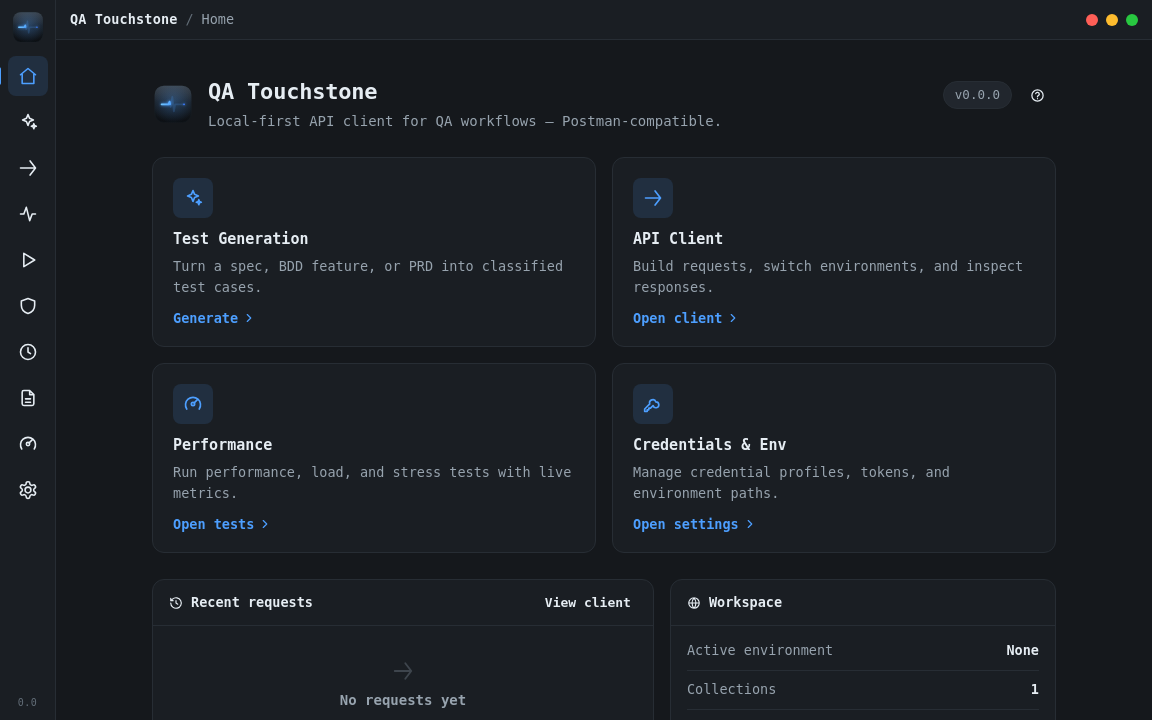
App (redesign shell) › runs due monitors on the background cadence before the Monitors route is opened
Click the button named "Monitors".
click(28, 352)  # box left=8, top=332, right=48, bottom=372
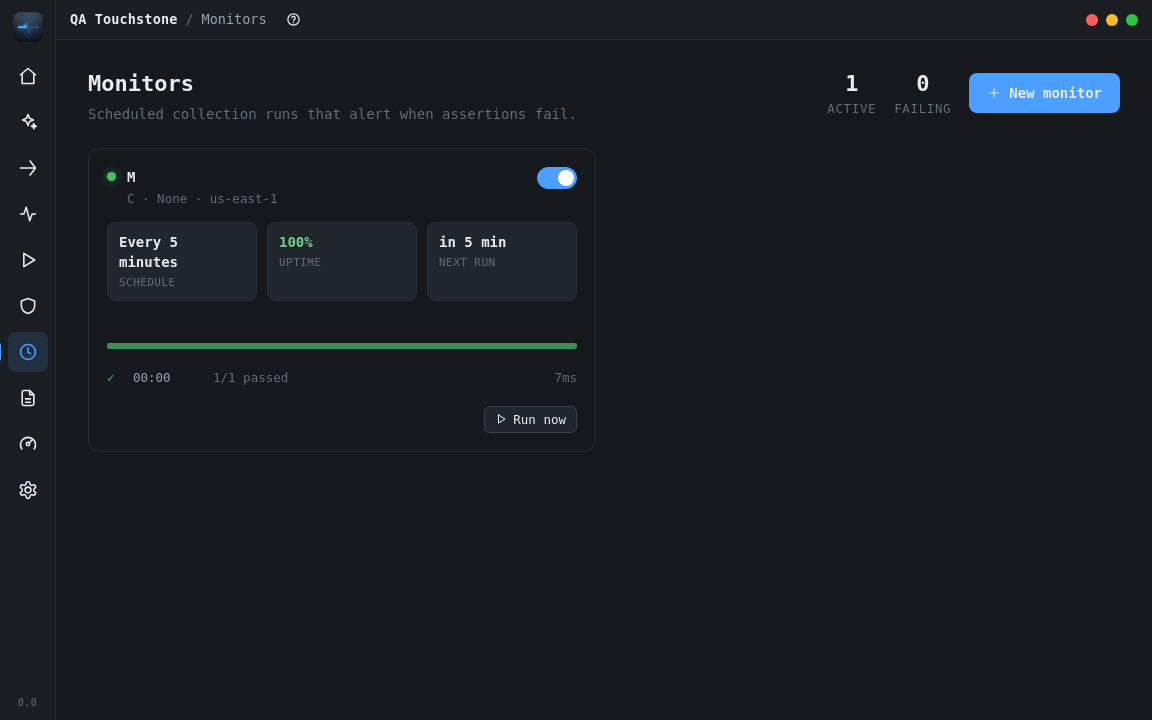
Now the text "1/1 passed" is shown, box left=213, top=370, right=288, bottom=385
